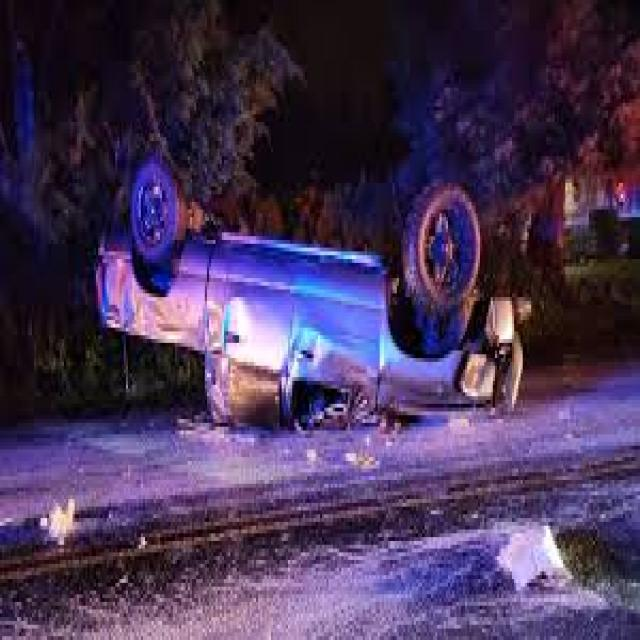accident: (69, 147, 571, 479)
